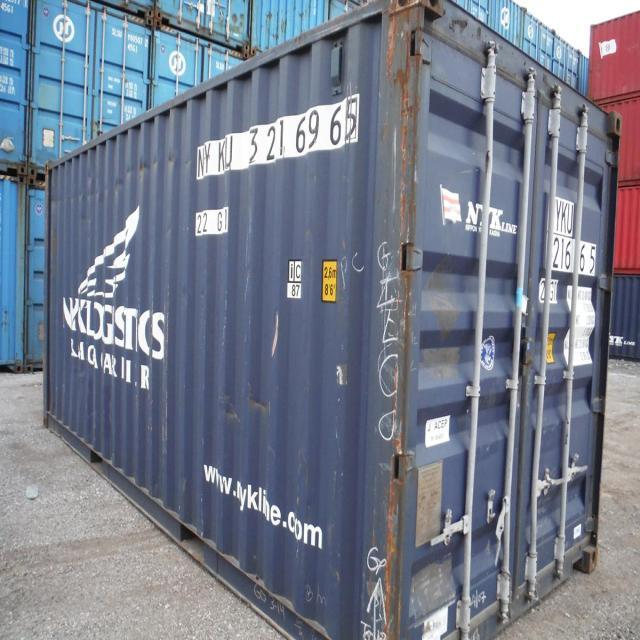ISO: (192, 198, 230, 244)
container_number: (189, 92, 367, 182)
